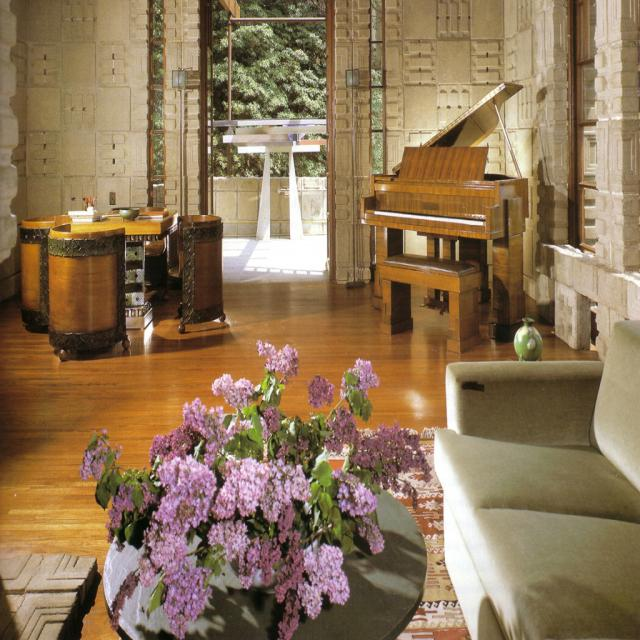2001: (149, 0, 165, 207), (371, 0, 384, 171)
bench crop: (379, 253, 481, 353)
book case: (139, 208, 167, 218)
bowl -X: (119, 208, 139, 218)
brick: (1, 557, 101, 639)
chair -occluded-: (48, 228, 129, 359), (176, 214, 226, 331), (18, 215, 55, 324)
door bars: (325, 0, 336, 281), (200, 0, 214, 212)
floor -X: (1, 282, 601, 640)
flowers in pot: (78, 340, 430, 637)
jar of pinecones: (80, 197, 96, 206)
lamp crop: (344, 68, 364, 288), (172, 68, 187, 207)
light switch: (106, 192, 118, 204)
piano: (421, 298, 447, 317)
piano pedels: (358, 81, 529, 340)
rug -partially obscured-: (329, 425, 468, 639)
sculpture -X: (214, 118, 323, 238)
sofa bed: (434, 318, 639, 639)
table -X: (69, 215, 177, 328)
table top: (102, 461, 428, 639)
telephone booth: (69, 209, 104, 218)
vase -X: (514, 318, 543, 360)
wall clock: (386, 0, 640, 358), (1, 0, 148, 304), (336, 0, 369, 284), (165, 0, 199, 211)
